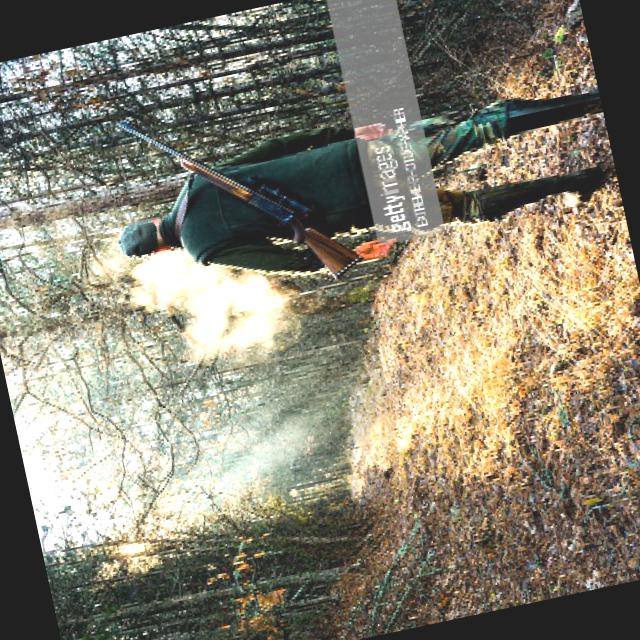long weapon: (113, 72, 364, 318)
